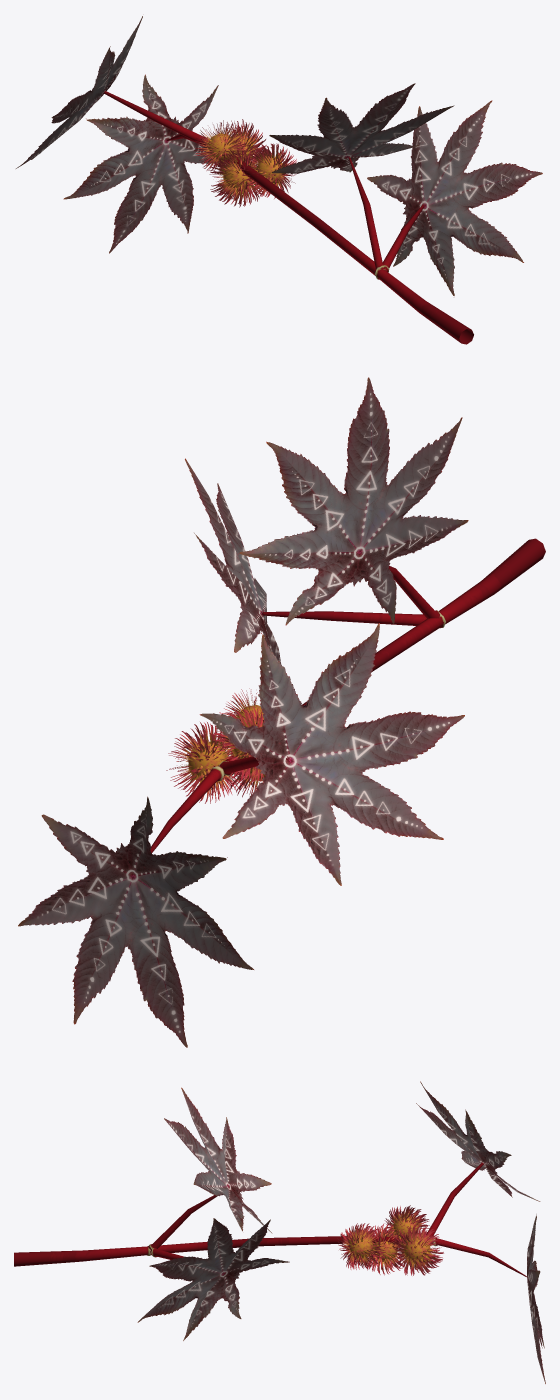
File: castor export.fbx
3 renders of one model, top to bottom at view 1: azimuth 30°, elevation 25°; view 2: azimuth 150°, elevation 25°; view 3: azimuth 270°, elevation 25°, orthographic. The views are drawn at different scales.
Visible parts, largest first — view 1: castor; view 2: castor; view 3: castor.
Part boxes in pixels (<box>): castor: <box>16,16,542,344</box>; castor: <box>18,377,545,1047</box>; castor: <box>14,1081,545,1383</box>.
Size of the model in its own units: 24.85 by 21.36 by 37.92.
Materials: 1 (1 with a texture image).
